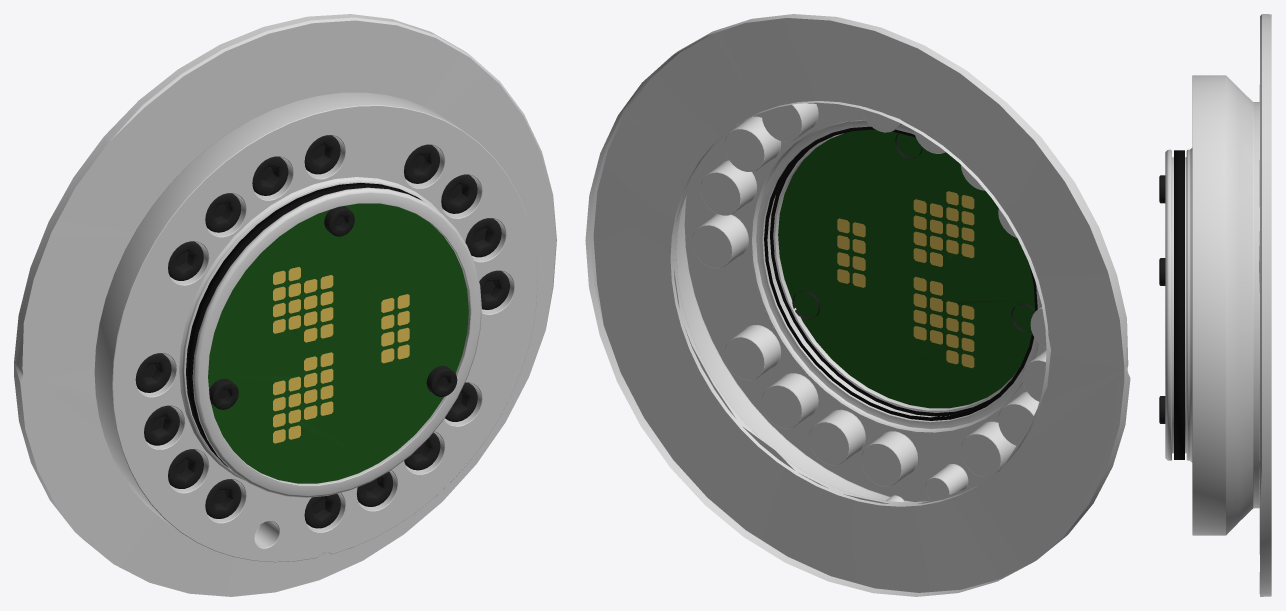
The model's file is D86-legacy-distal.glb.
3 renders of one model, left to right at view 1: azimuth 30°, elevation 25°; view 2: azimuth 150°, elevation 25°; view 3: azimuth 270°, elevation 25°, orthographic. The views are drawn at different scales.
Parts seen in each view (by area): view 1: D86-legacy-distal.001; view 2: D86-legacy-distal.001; view 3: D86-legacy-distal.001.
Part boxes in pixels (<box>): D86-legacy-distal.001: <box>14,14,556,596</box>; D86-legacy-distal.001: <box>585,14,1130,596</box>; D86-legacy-distal.001: <box>1159,14,1271,596</box>.
Bounding box in the file's own units: 0.086 × 0.0859 × 0.0165.
